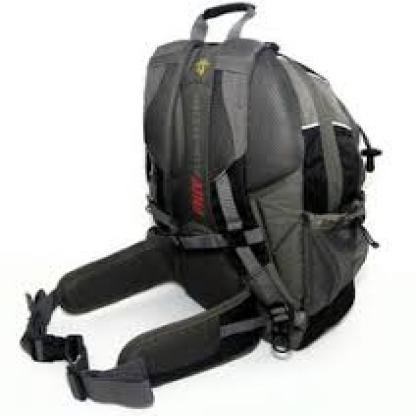morral: (12, 1, 392, 406)
